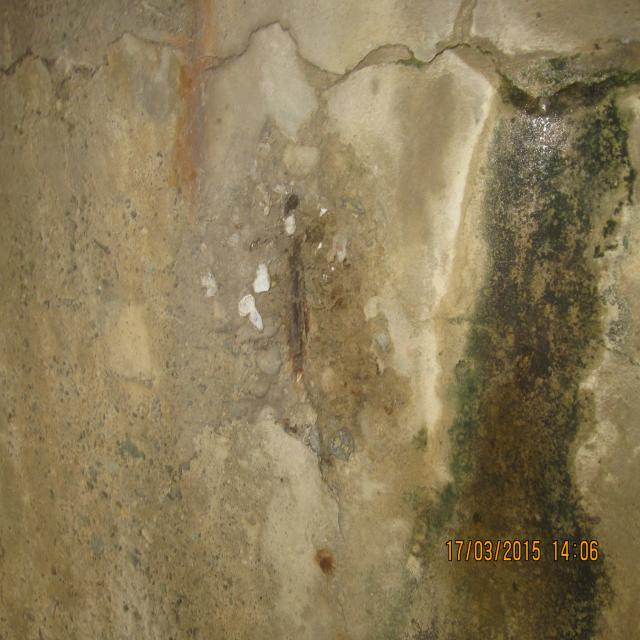corrosion: (467, 332, 570, 618), (266, 201, 350, 378), (162, 0, 218, 215), (304, 538, 340, 585)
